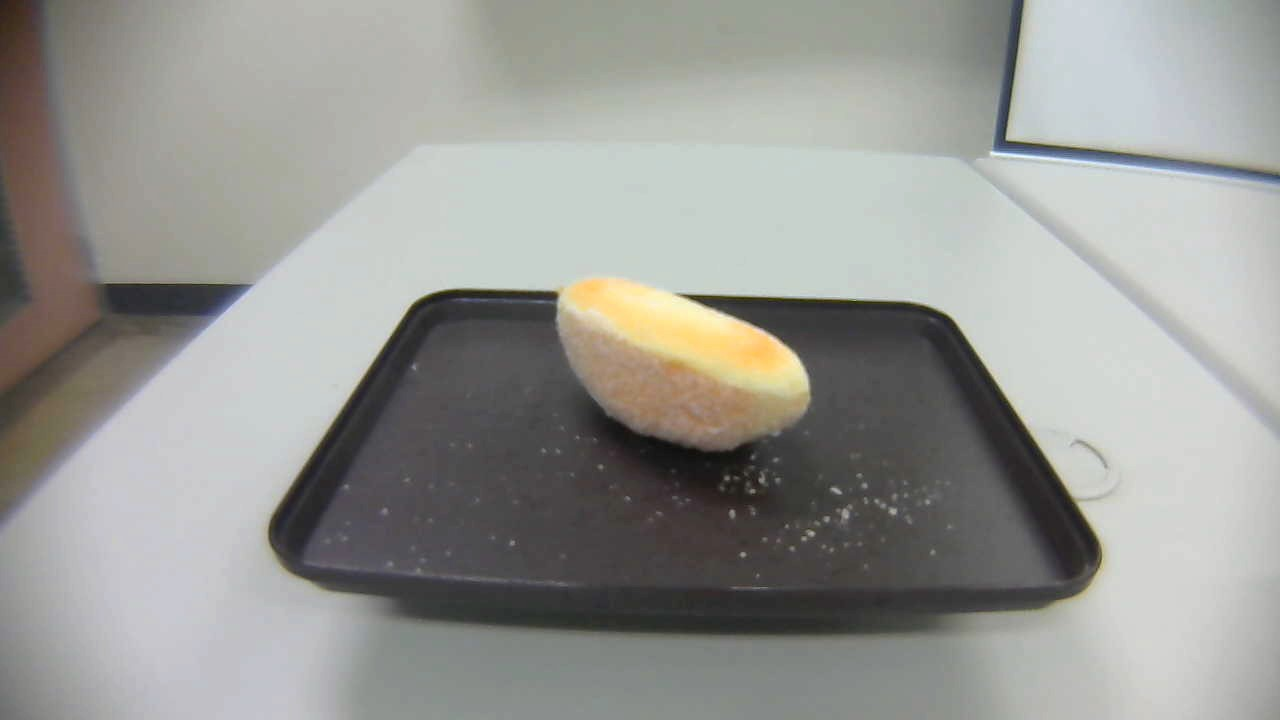coconut: (551, 270, 812, 452)
